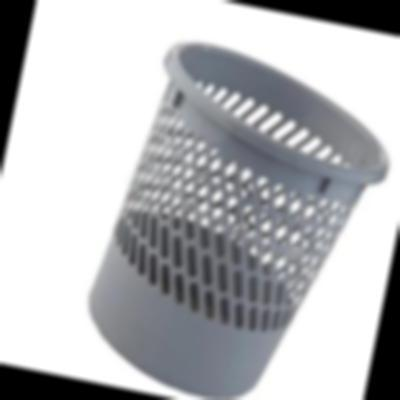Bote de Basura: (87, 38, 398, 400)
